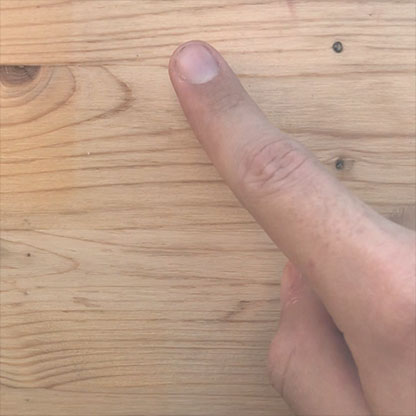fingertip: (158, 37, 235, 95)
